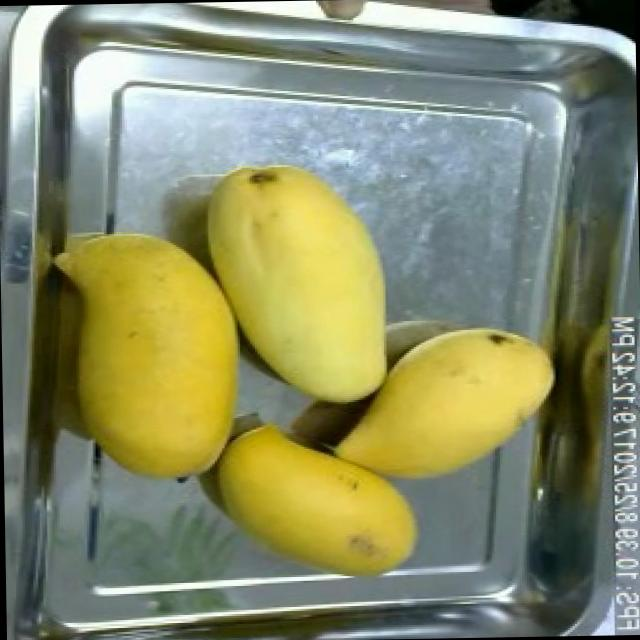fruit: (183, 148, 409, 418), (50, 213, 256, 492), (322, 312, 564, 498), (202, 418, 426, 588)
